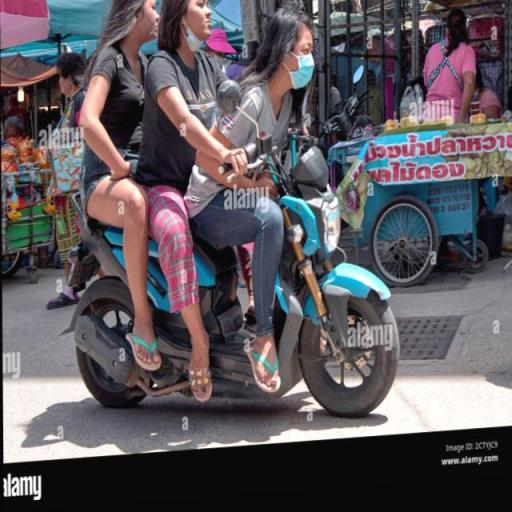tripple riding: (83, 0, 329, 410)
